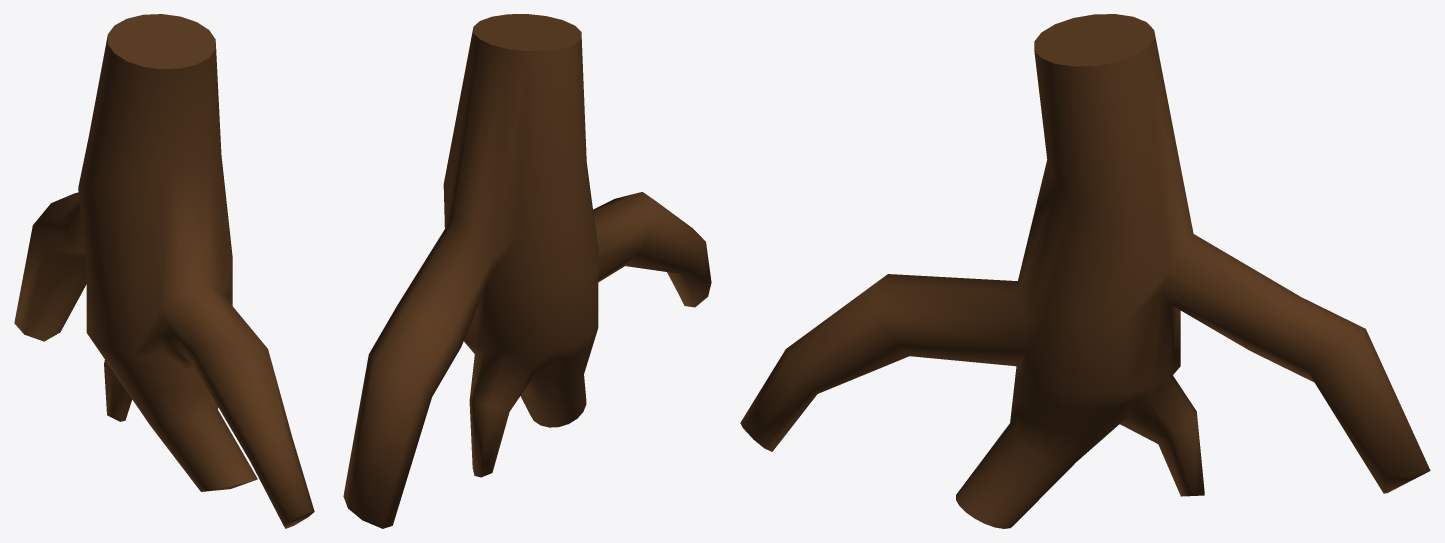
The model's file is RaizTopo_Texturizada.fbx.
The picture shows the model from 3 angles, left to right: view 1: azimuth 30°, elevation 25°; view 2: azimuth 150°, elevation 25°; view 3: azimuth 270°, elevation 25°; orthographic projection. The views are drawn at different scales.
Visible parts, largest first — view 1: Cylinder001; view 2: Cylinder001; view 3: Cylinder001.
Boxes of the visible parts, <box> form: Cylinder001: <box>14,14,314,528</box>; Cylinder001: <box>343,14,711,528</box>; Cylinder001: <box>740,14,1430,528</box>.
Size of the model in its own units: 8.84 by 28.24 by 36.94.
